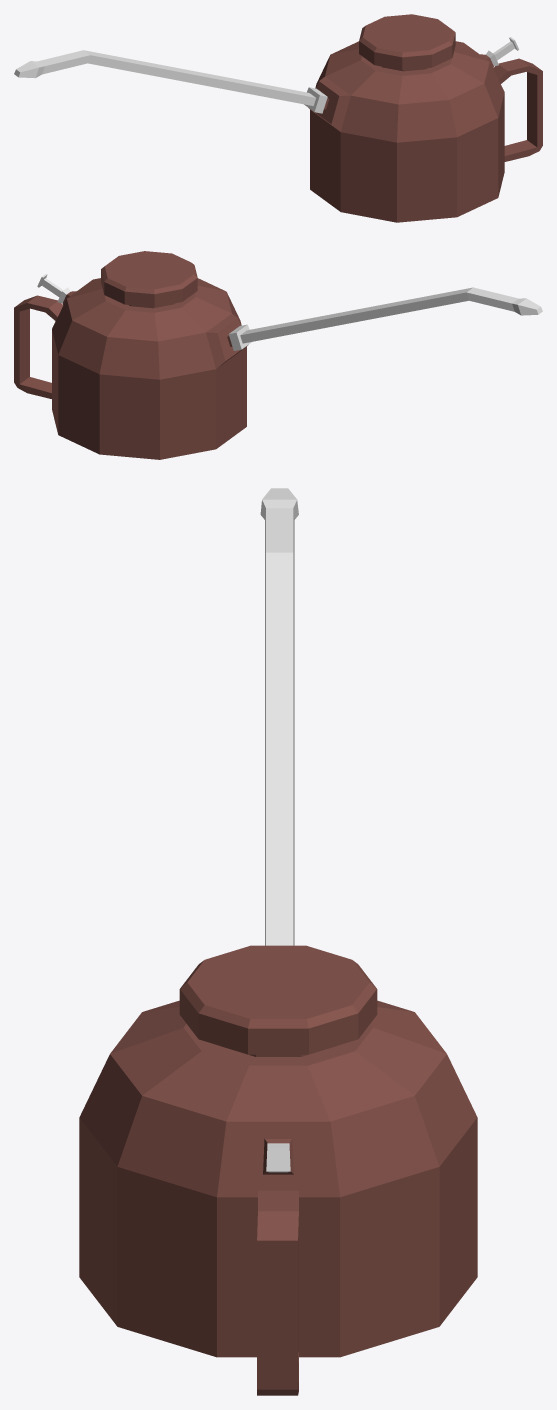
The model's file is Oiler.fbx.
The picture shows the model from 3 angles, top to bottom: view 1: azimuth 30°, elevation 25°; view 2: azimuth 150°, elevation 25°; view 3: azimuth 270°, elevation 25°; orthographic projection. The views are drawn at different scales.
Visible parts, largest first — view 1: Cylinder; view 2: Cylinder; view 3: Cylinder.
Boxes of the visible parts, bbox=[...] form: Cylinder: bbox=[14, 14, 542, 222]; Cylinder: bbox=[14, 251, 542, 459]; Cylinder: bbox=[79, 488, 477, 1395].
Bounding box in the file's own units: 605 × 230 × 200.
